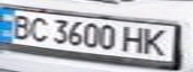0: (100, 22, 121, 52), (81, 20, 100, 50)
3: (48, 17, 69, 46)
6: (66, 19, 84, 47)
B: (3, 11, 36, 39)
C: (24, 15, 51, 43)
H: (121, 25, 148, 54)
K: (139, 25, 172, 56)
